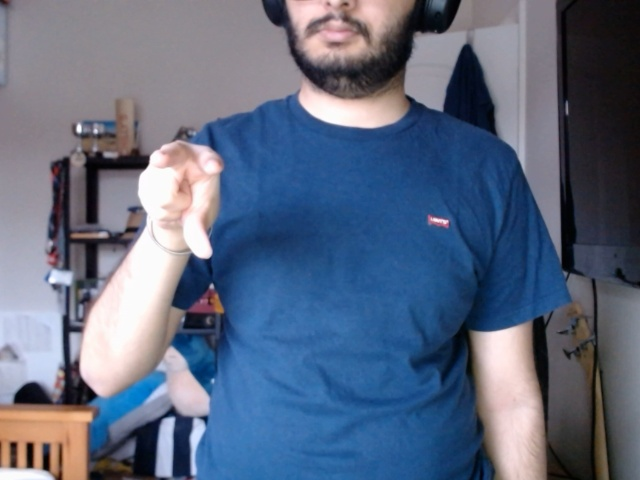No: (120, 127, 232, 279)
